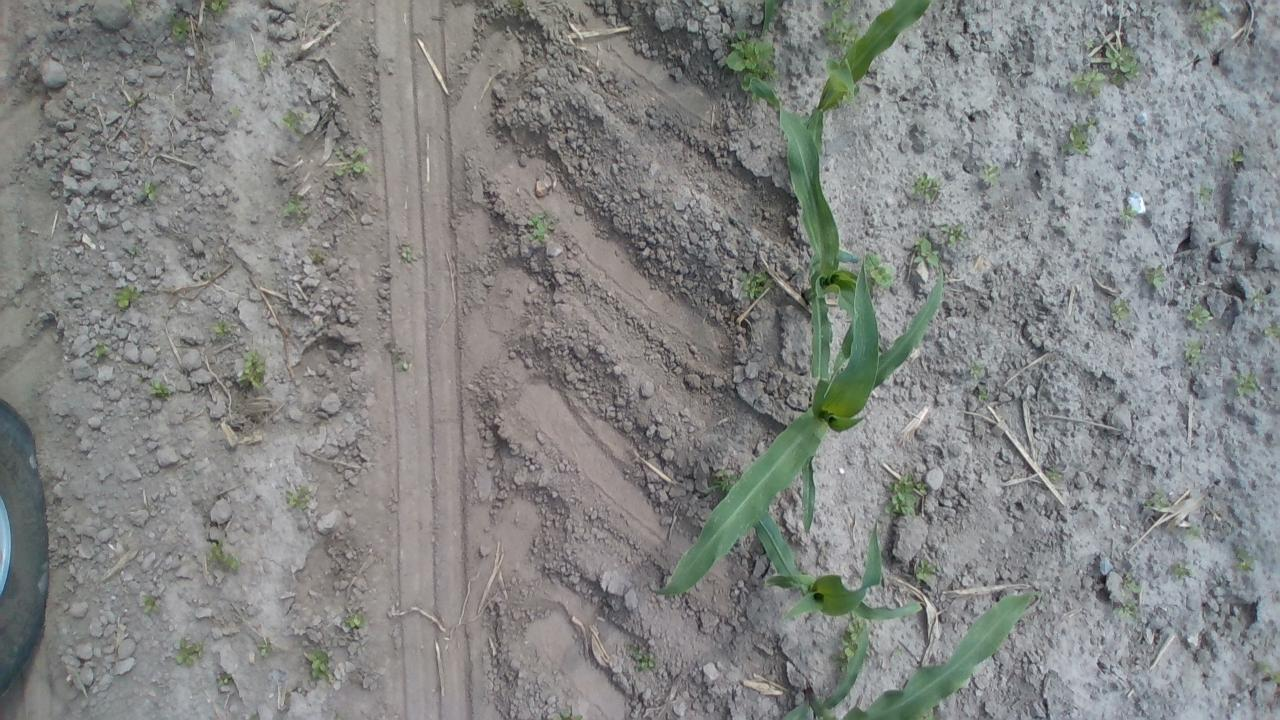Maize: (652, 266, 943, 597), (727, 74, 875, 493), (780, 592, 1042, 720), (746, 503, 928, 623), (802, 0, 934, 156)
Weeds: (719, 29, 783, 115), (821, 0, 863, 52), (883, 470, 927, 518), (832, 613, 865, 671), (1102, 42, 1140, 85), (331, 142, 375, 178), (1062, 115, 1098, 157), (236, 348, 267, 391), (207, 537, 242, 571), (864, 252, 896, 288), (704, 469, 743, 498), (1070, 68, 1106, 99), (738, 268, 772, 300), (624, 638, 656, 672), (304, 647, 336, 681), (914, 237, 942, 273), (163, 11, 193, 44), (172, 637, 204, 667), (910, 173, 943, 202), (110, 282, 144, 310), (286, 480, 316, 510), (1184, 302, 1214, 331), (1196, 4, 1226, 33), (911, 554, 940, 584), (1232, 369, 1260, 398), (942, 222, 969, 248), (1140, 489, 1170, 512), (280, 108, 311, 130), (526, 215, 552, 241), (136, 178, 162, 204), (1112, 598, 1140, 622), (208, 316, 236, 340), (282, 200, 312, 222), (1142, 263, 1166, 290), (147, 378, 176, 400), (1108, 297, 1132, 322), (1234, 548, 1257, 572), (398, 240, 420, 263), (140, 594, 163, 616), (390, 349, 412, 372), (340, 611, 366, 630), (94, 340, 116, 362), (1122, 572, 1142, 596), (203, 0, 230, 17), (1182, 342, 1202, 364), (255, 48, 275, 70), (1257, 660, 1276, 683), (980, 164, 1000, 185), (310, 248, 333, 266), (122, 0, 145, 18), (554, 706, 586, 718), (968, 359, 986, 379), (1196, 184, 1214, 203), (1226, 148, 1244, 166), (1184, 522, 1202, 540), (1043, 466, 1063, 482), (257, 637, 273, 657), (1170, 561, 1188, 578), (1118, 206, 1138, 221), (1250, 288, 1267, 304), (125, 243, 145, 256), (1262, 323, 1277, 340), (976, 386, 990, 403), (226, 105, 242, 118), (126, 94, 138, 107)
